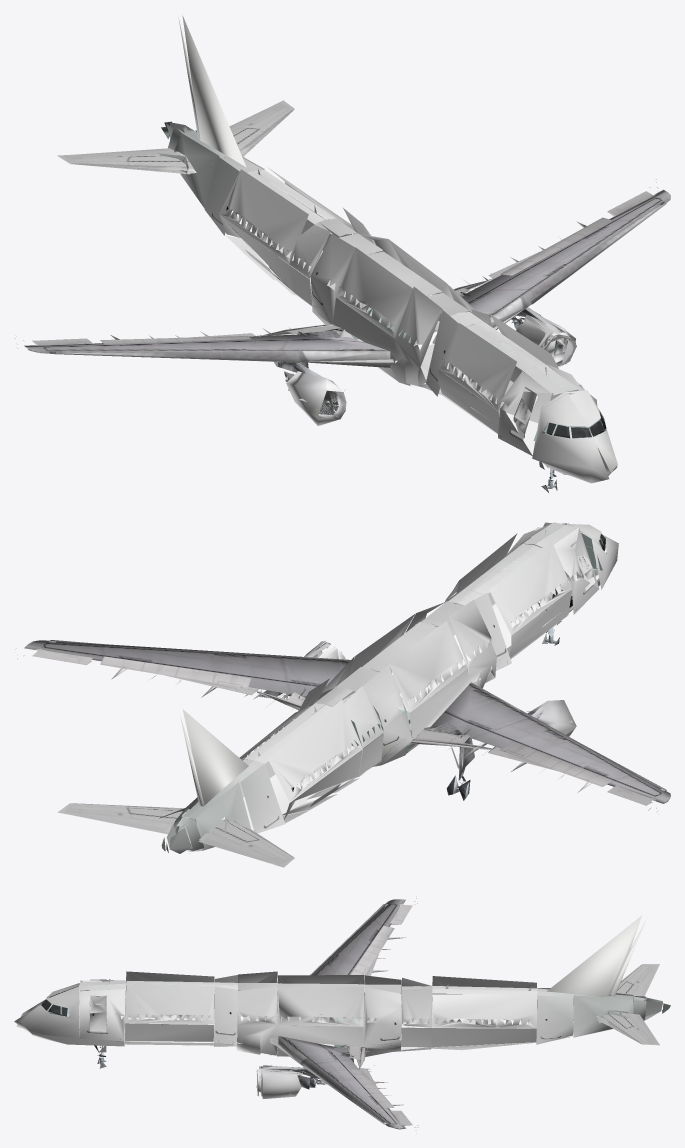
The model's file is airliner_a321_lod1.glb.
3 views of the same model, one above another, from view 1: azimuth 30°, elevation 25°; view 2: azimuth 150°, elevation 25°; view 3: azimuth 270°, elevation 25° (orthographic). The views are drawn at different scales.
Parts seen in each view (by area): view 1: LOD1; view 2: LOD1; view 3: LOD1.
Part boxes in pixels (x1,y1,x2,y2): LOD1: (15, 15, 670, 492); LOD1: (15, 522, 670, 867); LOD1: (14, 896, 670, 1129).
Bounding box in the file's own units: 37.02 × 11.81 × 44.82.
20 materials, 11 textured.
